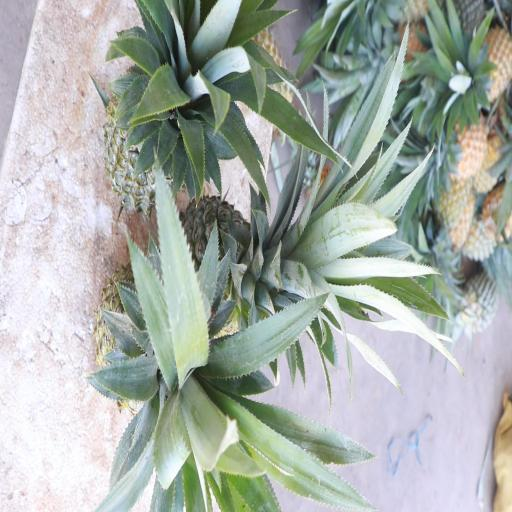Pineapple - v8 v1: (450, 24, 510, 112), (430, 108, 490, 185)
